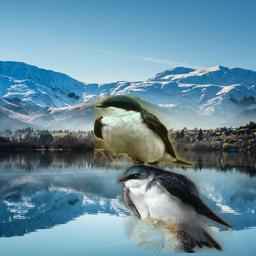Swallow: (116, 164, 233, 253), (94, 95, 195, 167)
